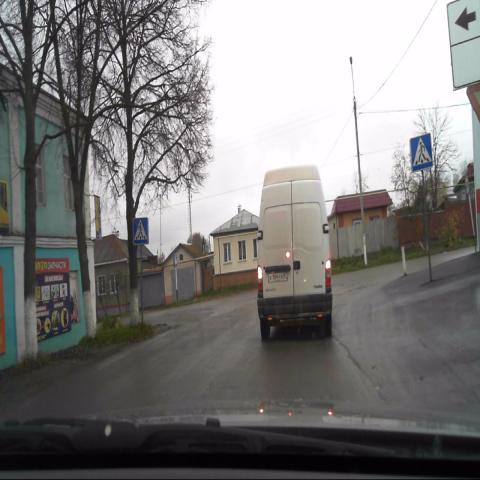5_19_1: (411, 135, 431, 166), (132, 218, 148, 246)
